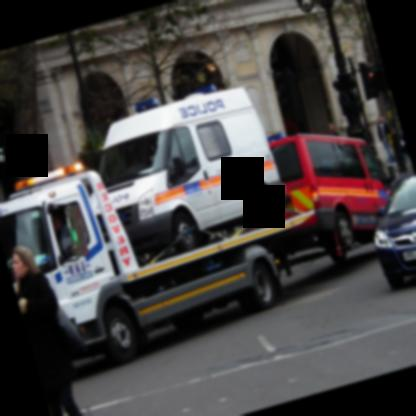handbag: (56, 301, 87, 357)
